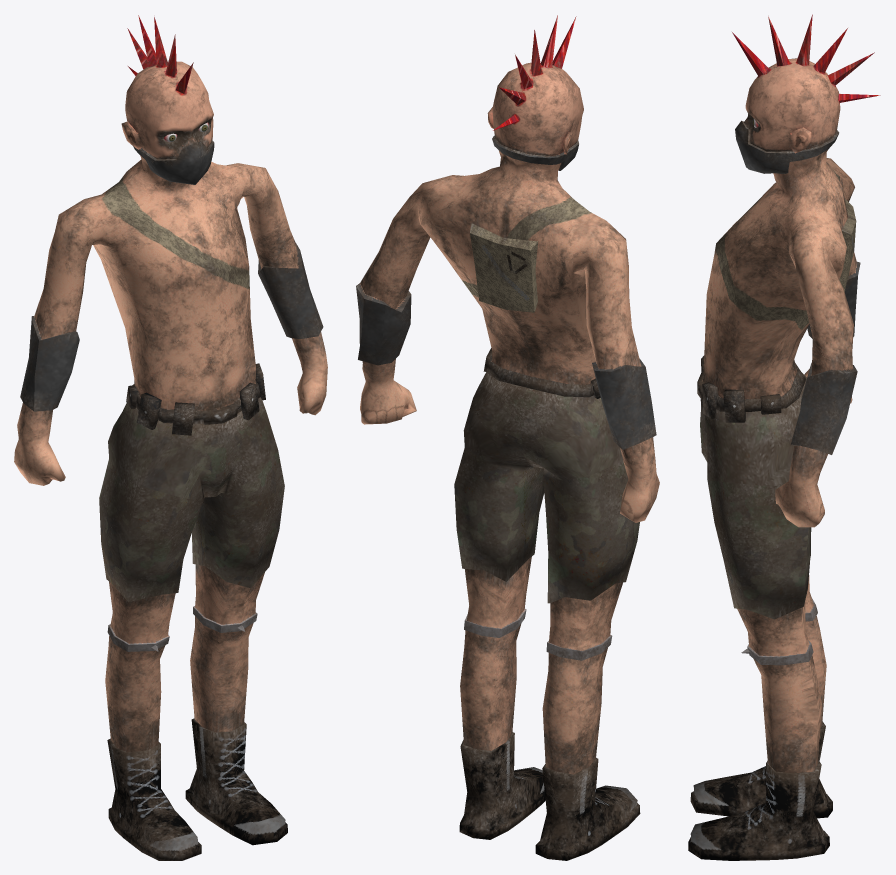
File: Anim_perder_1_npc2.0017.obj
3 views of the same model, side by side, from view 1: azimuth 30°, elevation 25°; view 2: azimuth 150°, elevation 25°; view 3: azimuth 270°, elevation 25° (orthographic). The views are drawn at different scales.
Parts seen in each view (by area): view 1: polySurface1; view 2: polySurface1; view 3: polySurface1.
Part boxes in pixels (box(x1,y1,x2,y2)): polySurface1: box(14, 15, 327, 860); polySurface1: box(356, 15, 659, 860); polySurface1: box(688, 14, 880, 860).
Size of the model in its own units: 3.92 by 10.12 by 2.2.
2 materials, 2 textured.
